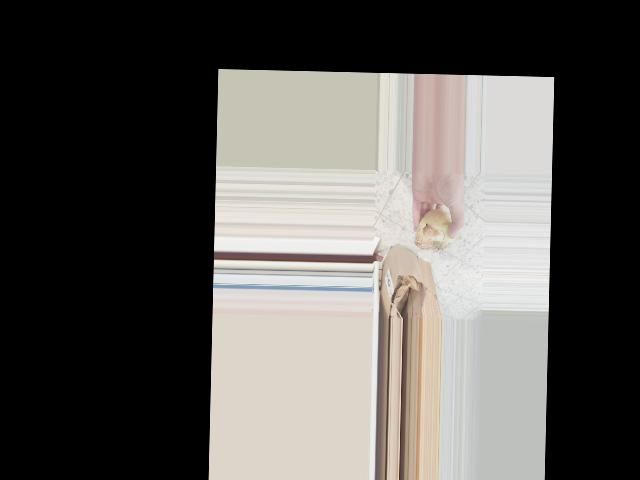onion: (413, 206, 460, 252)
